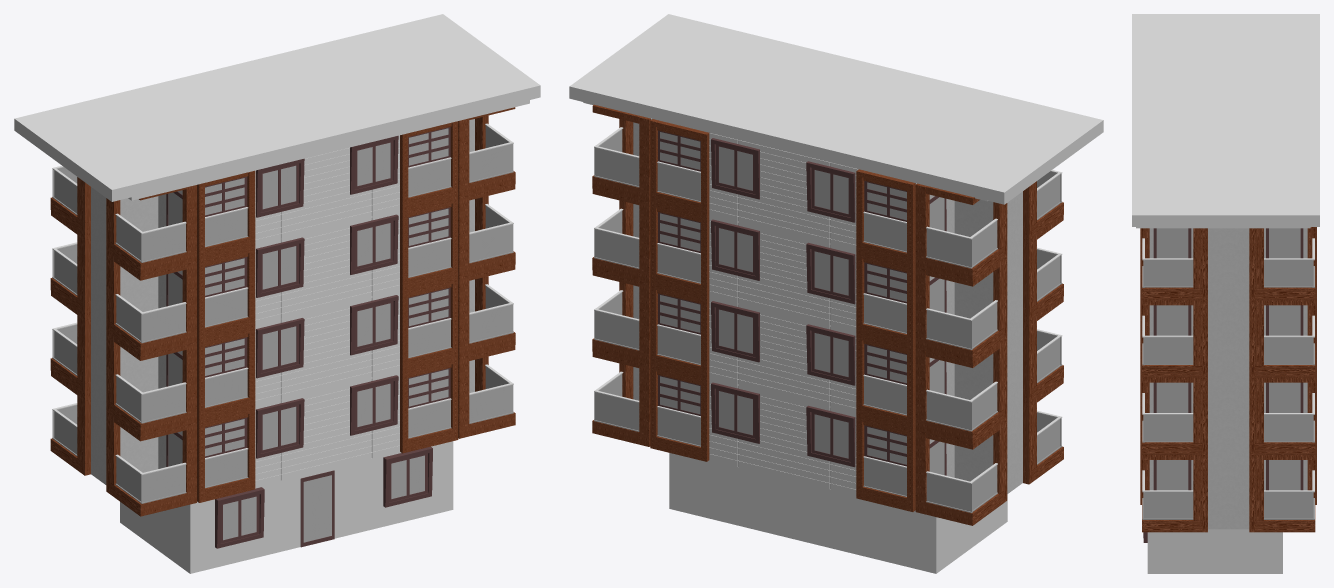
The model's file is building.fbx.
The picture shows the model from 3 angles, left to right: view 1: azimuth 30°, elevation 25°; view 2: azimuth 150°, elevation 25°; view 3: azimuth 270°, elevation 25°; orthographic projection. The views are drawn at different scales.
Visible parts, largest first — view 1: pCube49, polySurface1 (×8), pCube18 (×12), pCube16 (×8), pCube50, pPlane1 (×10), polySurface2 (×7), pCube19 (×8), pCube46 (×8), polySurface3 (×10), pPlane2 (×8), pCube43 (×8) (+3 smaller); view 2: pCube49, polySurface1 (×8), pCube18 (×12), pCube16 (×8), pCube50, polySurface2 (×7), pCube19 (×8), pCube46 (×8), pPlane1 (×8), polySurface3 (×8), pPlane2 (×8), pCube43 (×8); view 3: pCube49, pCube18 (×8), polySurface2 (×8), pCube43 (×8), pPlane3 (×8), pCube50, pCube48.
Part boxes in pixels (bbox=[...]): pCube49: bbox=[14, 14, 540, 201]; polySurface1 (×8): bbox=[255, 135, 399, 486]; pCube18 (×12): bbox=[50, 107, 515, 516]; pCube16 (×8): bbox=[197, 121, 458, 502]; pCube50: bbox=[120, 441, 453, 573]; pPlane1 (×10): bbox=[223, 142, 424, 540]; polySurface2 (×7): bbox=[91, 190, 281, 484]; pCube19 (×8): bbox=[141, 144, 513, 502]; pCube46 (×8): bbox=[205, 159, 450, 487]; polySurface3 (×10): bbox=[215, 135, 432, 548]; pPlane2 (×8): bbox=[205, 128, 448, 456]; pCube43 (×8): bbox=[54, 170, 140, 501]; pCube49: bbox=[569, 14, 1103, 204]; polySurface1 (×8): bbox=[651, 118, 916, 495]; pCube18 (×12): bbox=[592, 104, 1063, 525]; pCube16 (×8): bbox=[650, 119, 915, 511]; pCube50: bbox=[669, 453, 1007, 573]; polySurface2 (×7): bbox=[830, 162, 1022, 493]; pCube19 (×8): bbox=[594, 147, 972, 512]; pCube46 (×8): bbox=[657, 163, 906, 495]; pPlane1 (×8): bbox=[719, 146, 848, 458]; polySurface3 (×8): bbox=[711, 138, 855, 467]; pPlane2 (×8): bbox=[660, 132, 906, 464]; pCube43 (×8): bbox=[972, 175, 1060, 510]; pCube49: bbox=[1132, 14, 1319, 226]; pCube18 (×8): bbox=[1142, 227, 1315, 532]; polySurface2 (×8): bbox=[1149, 228, 1307, 529]; pCube43 (×8): bbox=[1144, 260, 1313, 518]; pPlane3 (×8): bbox=[1156, 228, 1300, 490]; pCube50: bbox=[1147, 529, 1282, 573]; pCube48: bbox=[1136, 227, 1310, 228].
Bounding box in the file's own units: 218 × 200 × 86.11.
